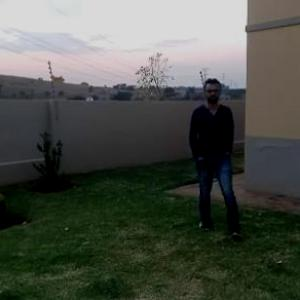follow: (188, 75, 239, 225)
